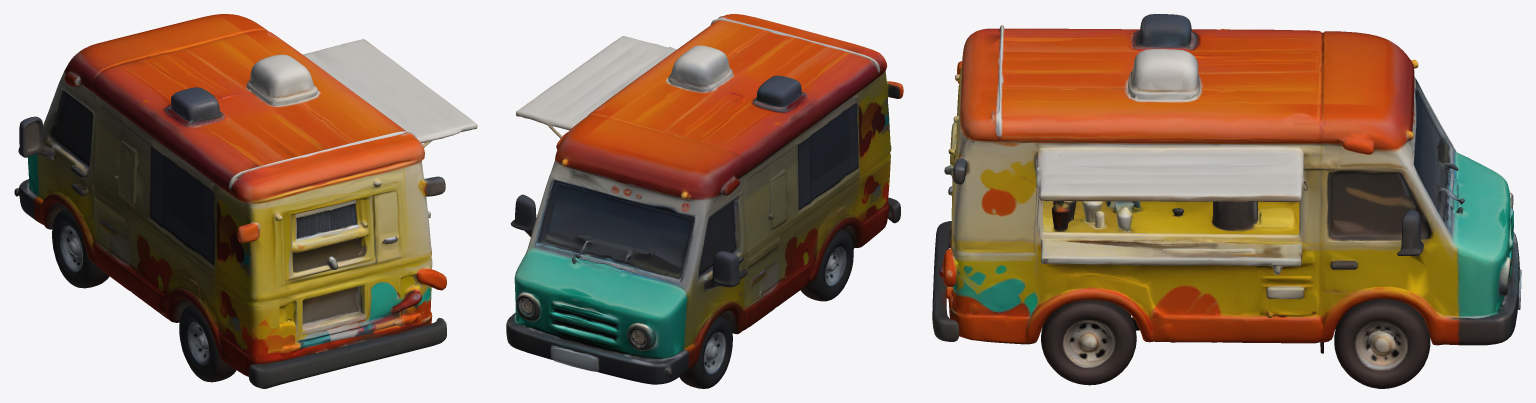
The model's file is plaza-food-truck.glb.
3 renders of one model, left to right at view 1: azimuth 30°, elevation 25°; view 2: azimuth 150°, elevation 25°; view 3: azimuth 270°, elevation 25°, orthographic. The views are drawn at different scales.
Parts seen in each view (by area): view 1: tripo_node_eea698b2-31f8-4602-ada3-f77b02c0d152; view 2: tripo_node_eea698b2-31f8-4602-ada3-f77b02c0d152; view 3: tripo_node_eea698b2-31f8-4602-ada3-f77b02c0d152.
Boxes of the visible parts, left/top/right/bottom form: tripo_node_eea698b2-31f8-4602-ada3-f77b02c0d152: left=14, top=14, right=477, bottom=388; tripo_node_eea698b2-31f8-4602-ada3-f77b02c0d152: left=506, top=14, right=903, bottom=388; tripo_node_eea698b2-31f8-4602-ada3-f77b02c0d152: left=932, top=14, right=1521, bottom=388.
Bounding box in the file's own units: 3.44 × 3 × 5.26.
Materials: 1 (1 with a texture image).
